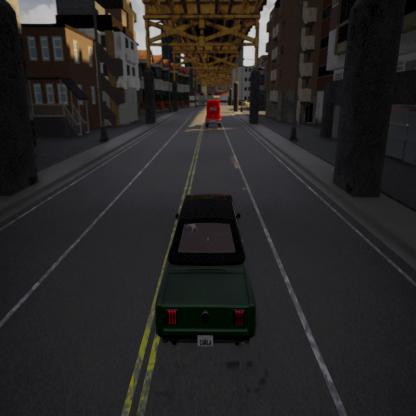Cars: (147, 187, 265, 358), (201, 94, 225, 131)
